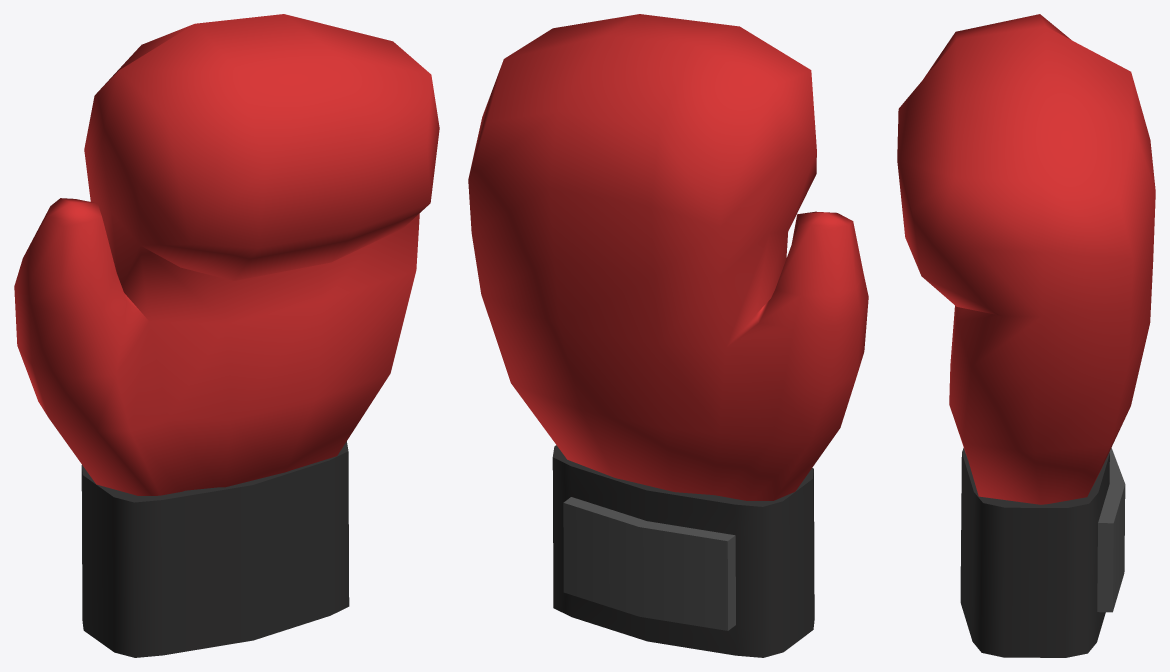
The model's file is Boxing_glove.fbx.
The picture shows the model from 3 angles, left to right: view 1: azimuth 30°, elevation 25°; view 2: azimuth 150°, elevation 25°; view 3: azimuth 270°, elevation 25°; orthographic projection. The views are drawn at different scales.
Visible parts, largest first — view 1: Boxing_glove; view 2: Boxing_glove; view 3: Boxing_glove.
Part boxes in pixels (x1=…): Boxing_glove: x1=14, y1=14, x2=439, y2=657; Boxing_glove: x1=468, y1=14, x2=868, y2=657; Boxing_glove: x1=897, y1=14, x2=1155, y2=657.
Bounding box in the file's own units: 10.6 × 15.48 × 6.36.
